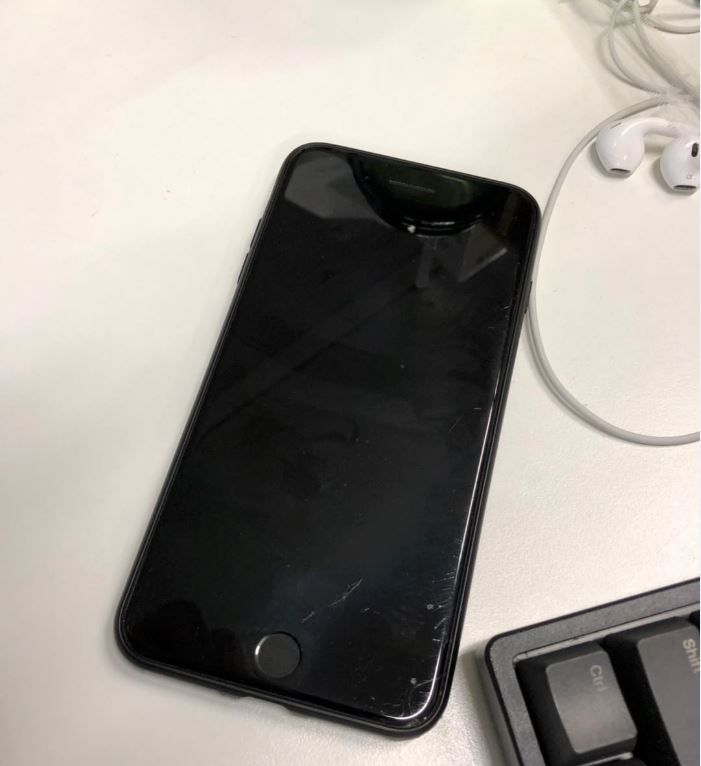mobil: (109, 136, 542, 742)
